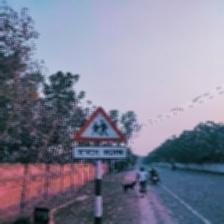College-in-front: (64, 91, 164, 197)
